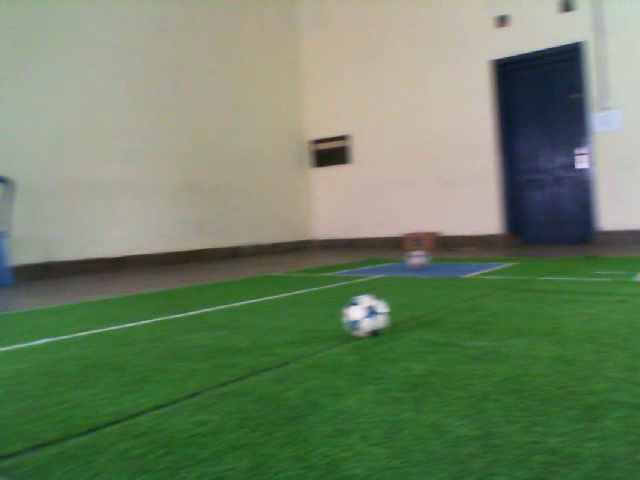ball: (339, 291, 393, 340)
